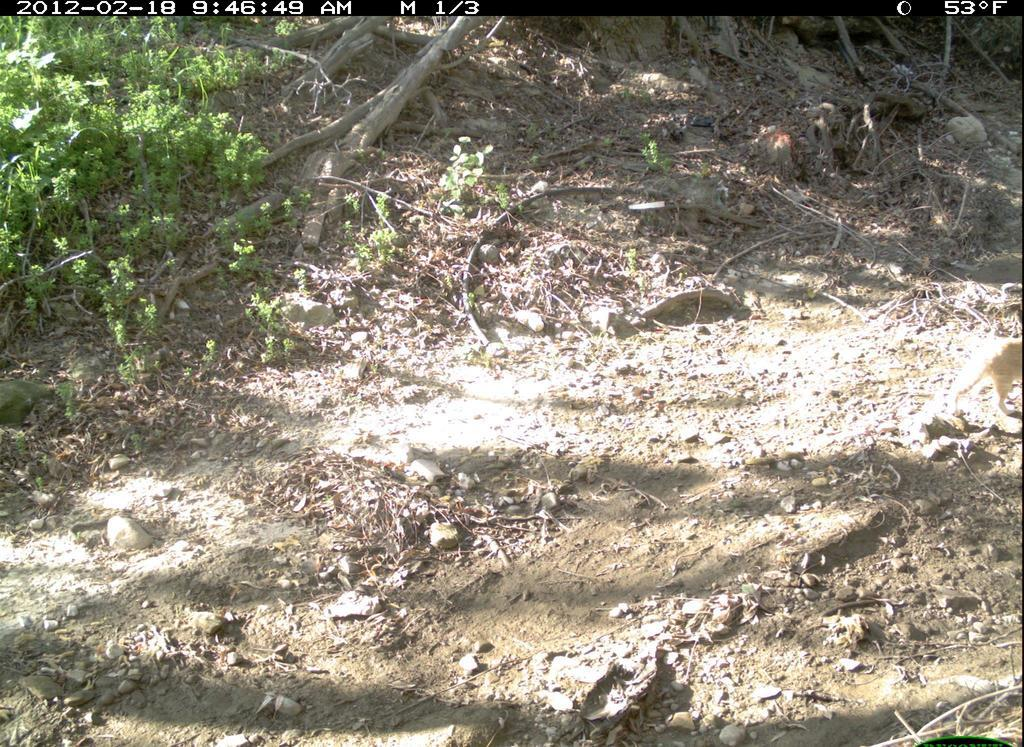cat: (945, 331, 1023, 440)
